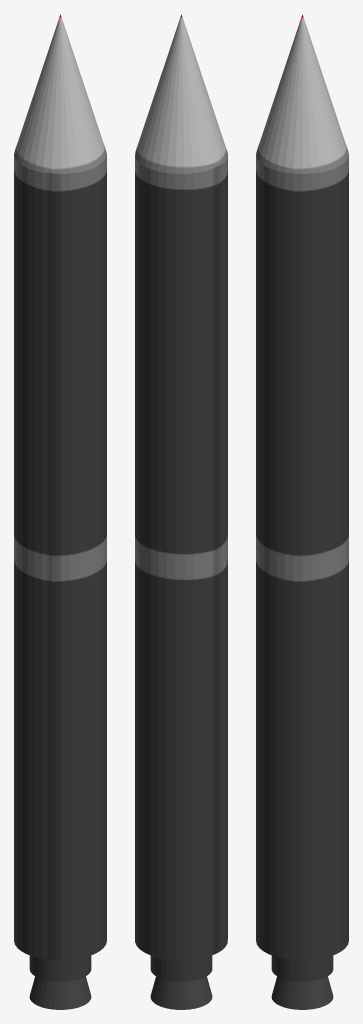
The model's file is icbm.obj.
3 renders of one model, left to right at view 1: azimuth 90°, elevation 25°; view 2: azimuth 150°, elevation 25°; view 3: azimuth 270°, elevation 25°, orthographic.
Visible parts, largest first — view 1: ICBM; view 2: ICBM; view 3: ICBM.
Boxes of the visible parts, x1,y1,x2,y2 form: ICBM: (14,14,106,1009); ICBM: (135,14,227,1009); ICBM: (256,14,348,1009).
Size of the model in its own units: 3 by 35 by 3.
